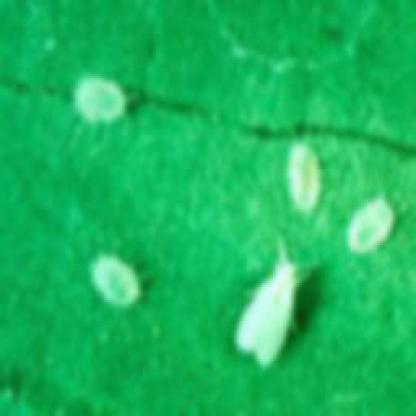whitefly: (235, 267, 294, 367)
